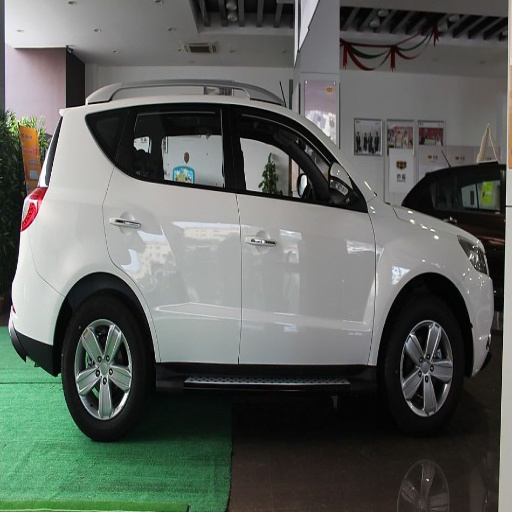back_right_door: (104, 103, 241, 365)
front_right_door: (229, 103, 376, 362)
